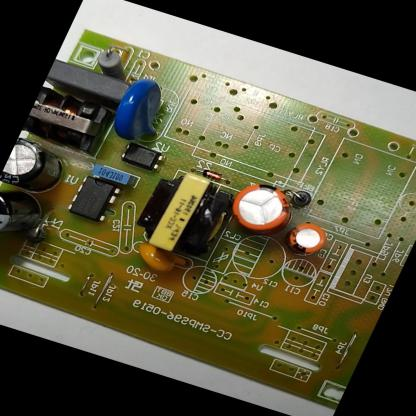Cap1: (224, 177, 304, 239)
Cap2: (282, 218, 330, 258)
Cap3: (0, 136, 76, 201)
Cap4: (0, 183, 54, 251)
MOSFET: (66, 174, 123, 224)
Mov: (103, 73, 181, 149)
Resistor: (90, 45, 135, 80)
Transformer: (129, 167, 238, 263), (20, 82, 119, 157)
